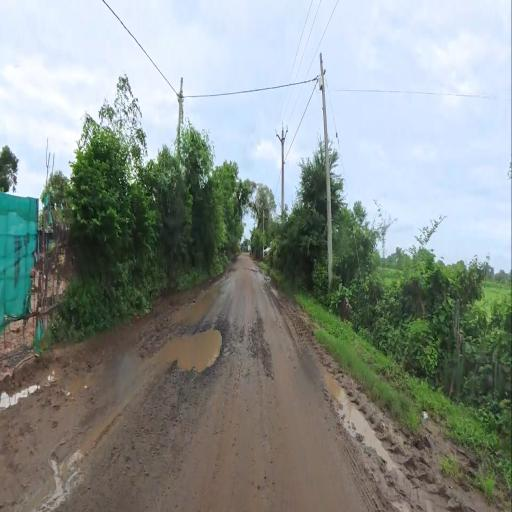pothole: (164, 284, 231, 412)
